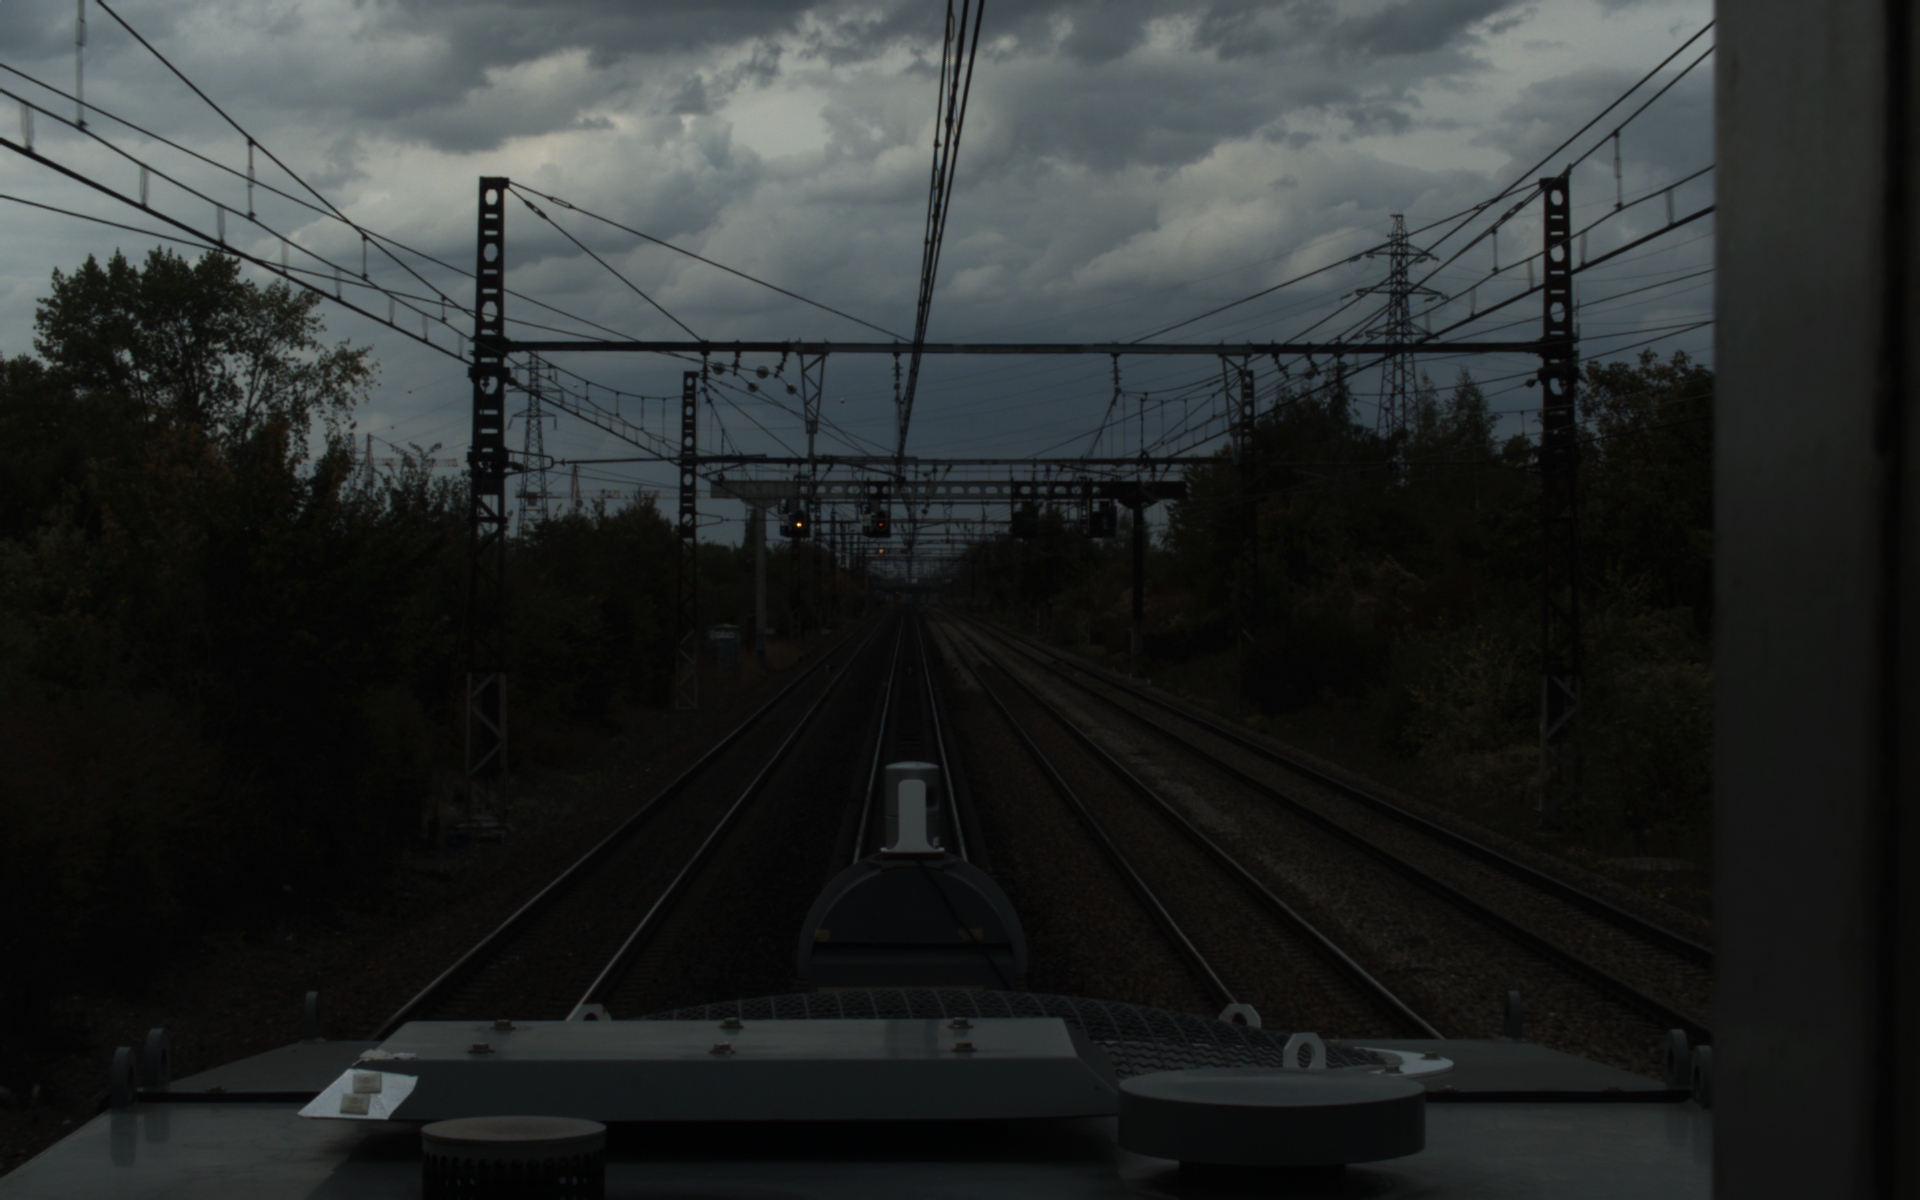Blinking: (874, 509, 887, 531)
Fixed: (791, 509, 806, 532)
